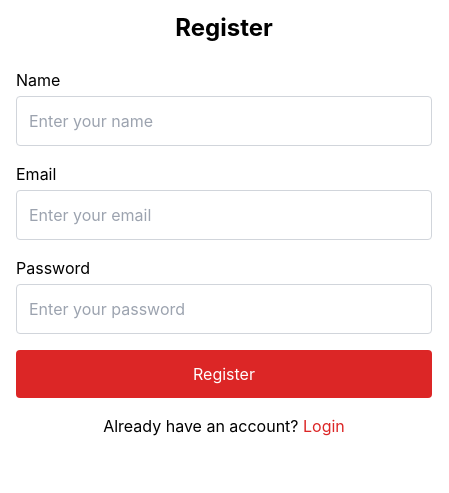
Scenario: Register Component › handles failed registration
The width and height of the screenshot is (449, 493).
Type "Test User" into the field labelled "Name" at (224, 121), box [16,96,432,146]
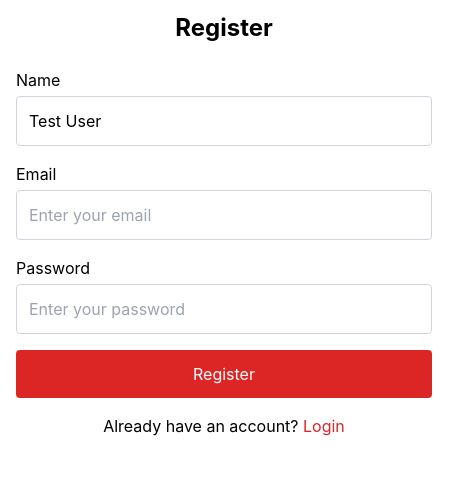
Type "test@example.com" into the field labelled "Email" at (224, 215), box [16,190,432,240]
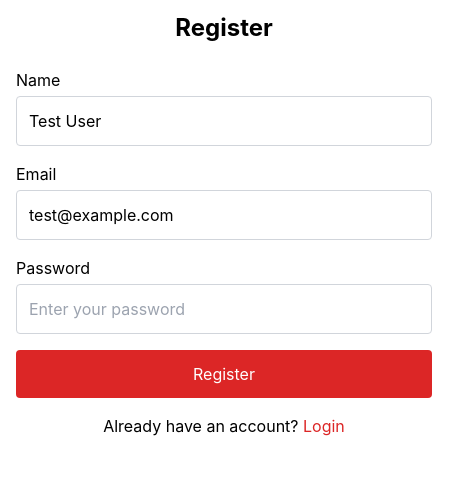
Type "password123" into the password field labelled "Password" at (224, 309), box [16,284,432,334]
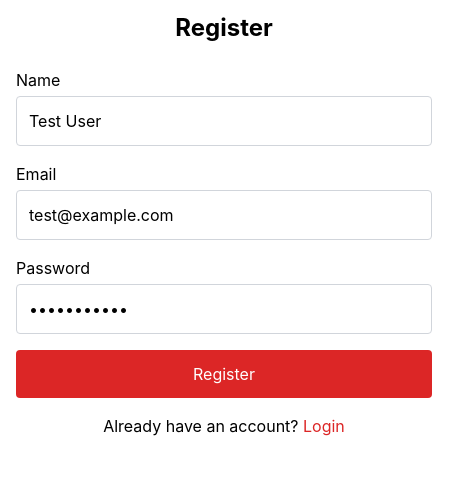
Click the button "Register" at (224, 374), box [16,350,432,398]
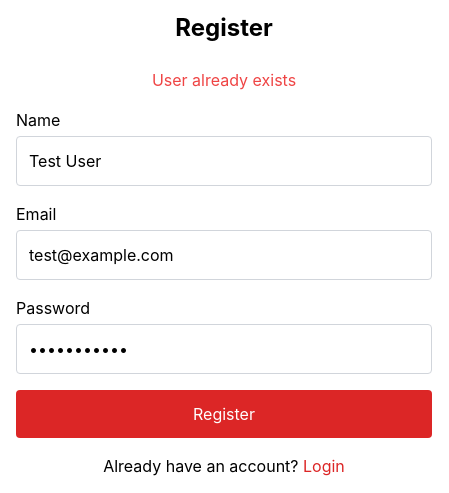
Expected: the text "User already exists" is shown, [152,70,296,90]
